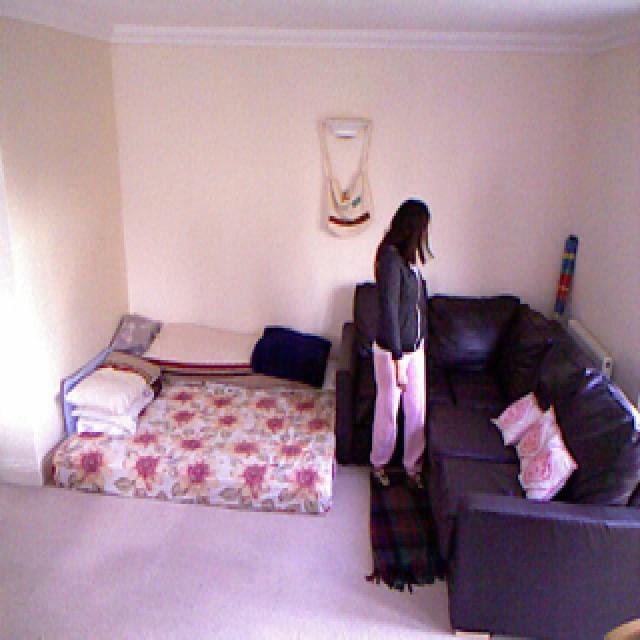standing: (368, 199, 433, 493)
